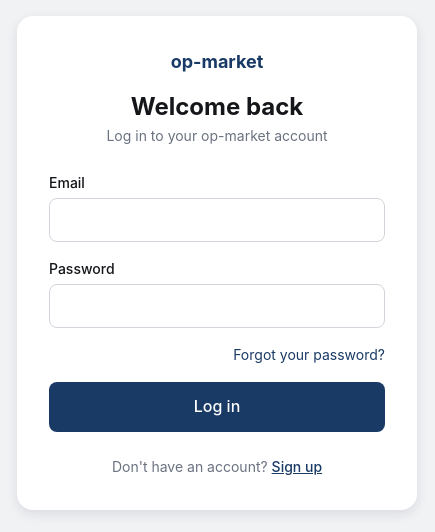
it: LoginPage › disables the submit button while the login request is in flight
Type "lahcen@test.com" into the field labelled "Email" at (217, 220), box [49,198,385,242]
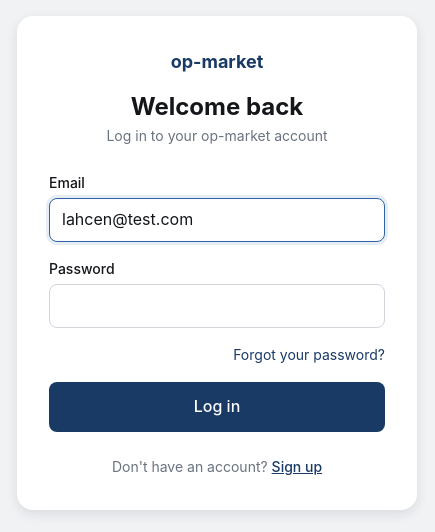
Type "secret123" into the password field labelled "Password" at (217, 306), box [49,284,385,328]
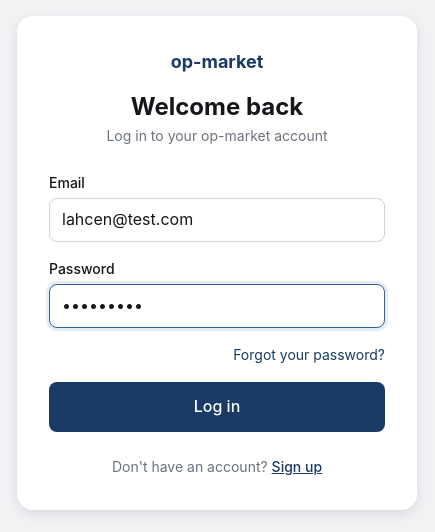
Click the button "Log in" at (217, 407), box [49,382,385,432]
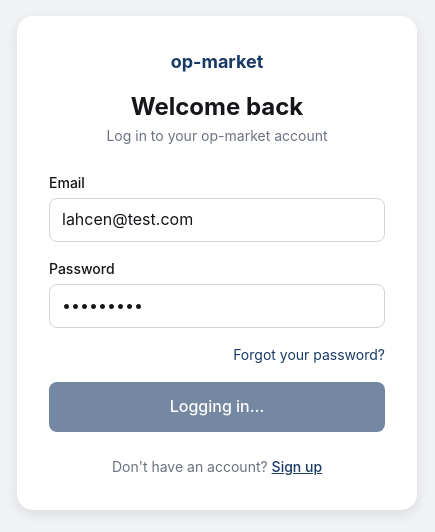
Result: the button "Logging in…" is disabled at [49,382,385,432]
